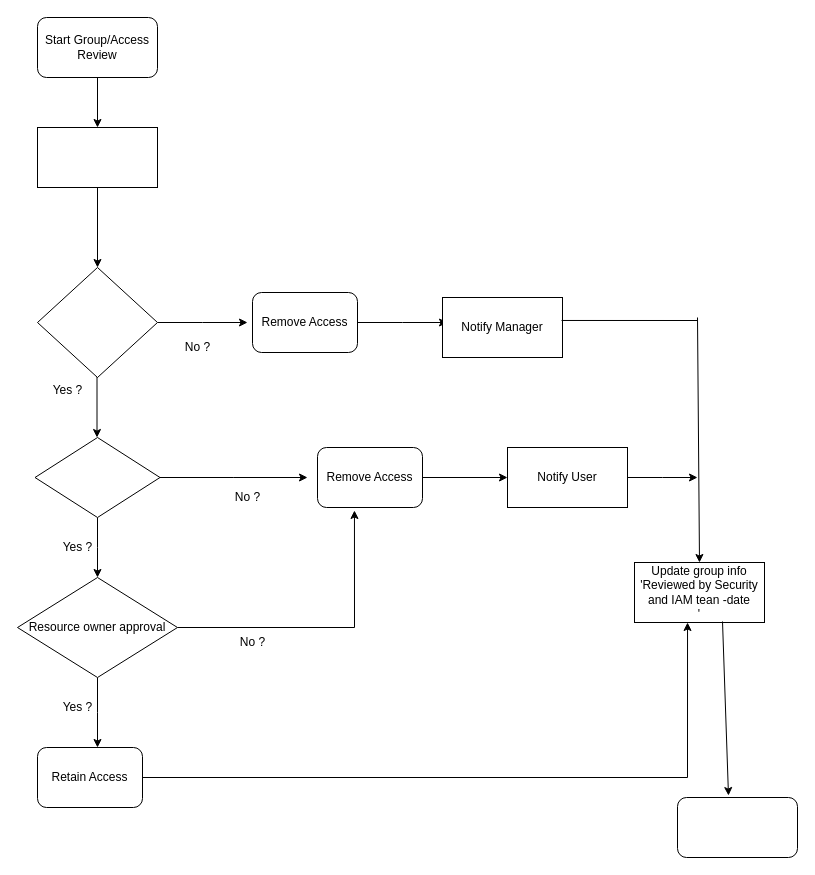
Some shapes in this 815 by 875 pixel diagram are drawn without their labels. Here are the shapes that lost their labels. From the top down, the box of each, then its label:
(36, 126, 158, 188): Verify Members identity /attribute
(36, 266, 158, 378): Is user account active
(34, 436, 160, 518): Manager approves Access
(676, 796, 798, 858): End
